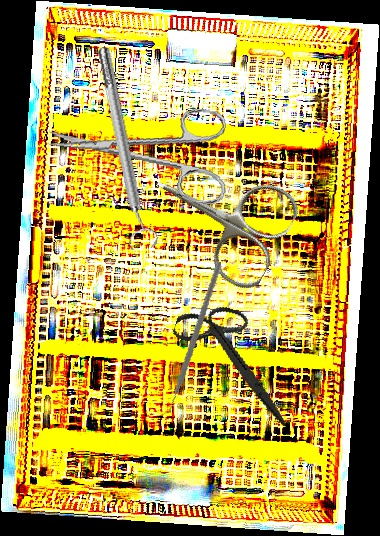Chopper: (126, 261, 252, 417)
Fixation Ring: (88, 43, 161, 254)
Iris Scissors: (132, 134, 305, 297), (41, 88, 237, 207), (155, 293, 315, 427)
